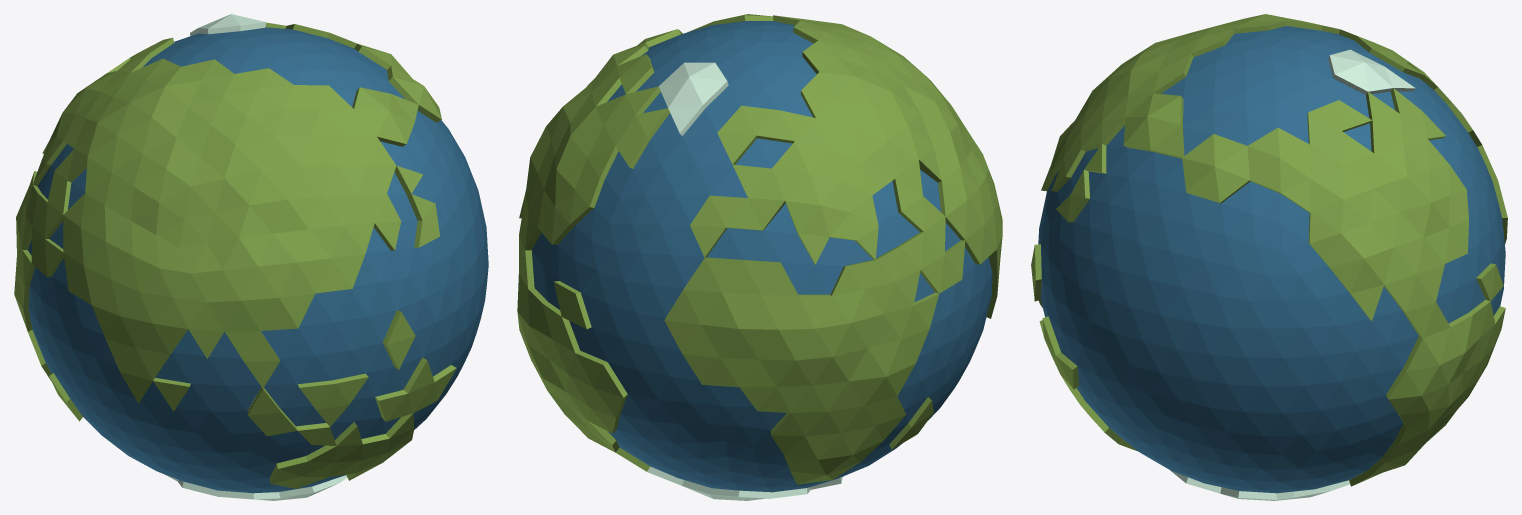
Rendered from earth.glb.
3 views of the same model, side by side, from view 1: azimuth 30°, elevation 25°; view 2: azimuth 150°, elevation 25°; view 3: azimuth 270°, elevation 25° (orthographic).
Parts seen in each view (by area): view 1: URF-Height; view 2: URF-Height; view 3: URF-Height.
Boxes of the visible parts, x1,y1,x2,y2 form: URF-Height: (14,14,488,500); URF-Height: (517,14,1002,500); URF-Height: (1031,14,1507,500).
Bounding box in the file's own units: 201 × 206 × 203.
